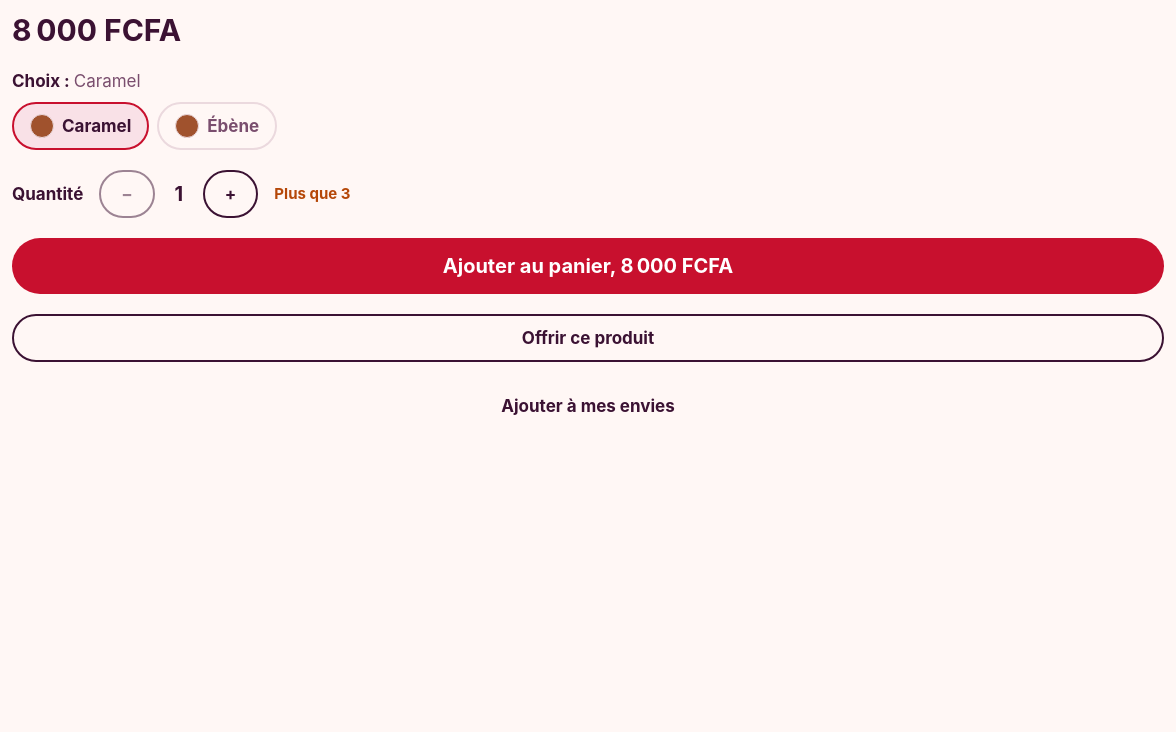
Test: ProductBuy › adds the chosen shade and quantity to the cart
Click the button named "Un de plus": (231, 194) [203, 170, 258, 218]
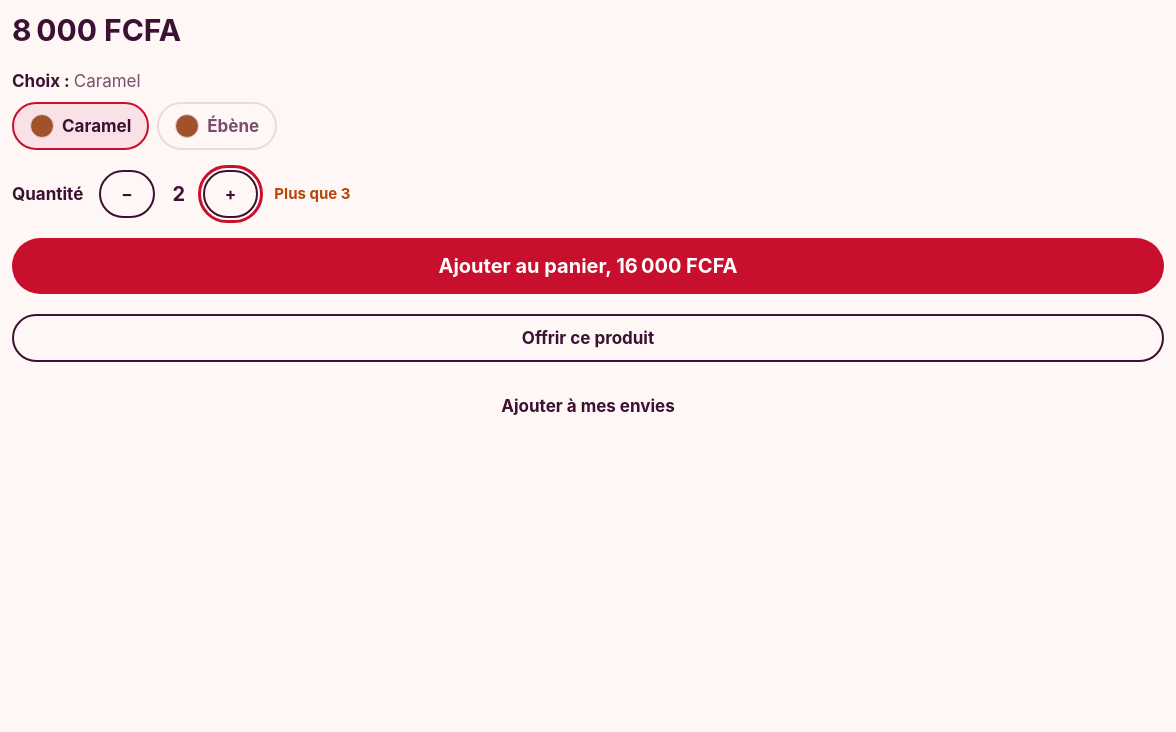
Expected: the text "Plus que 3" is shown, [274, 183, 350, 205]
Expected: the button "Ajouter au panier, 16 000 FCFA" is shown
Click the button "Ajouter au panier, 16 000 FCFA": (588, 266) [12, 238, 1164, 294]
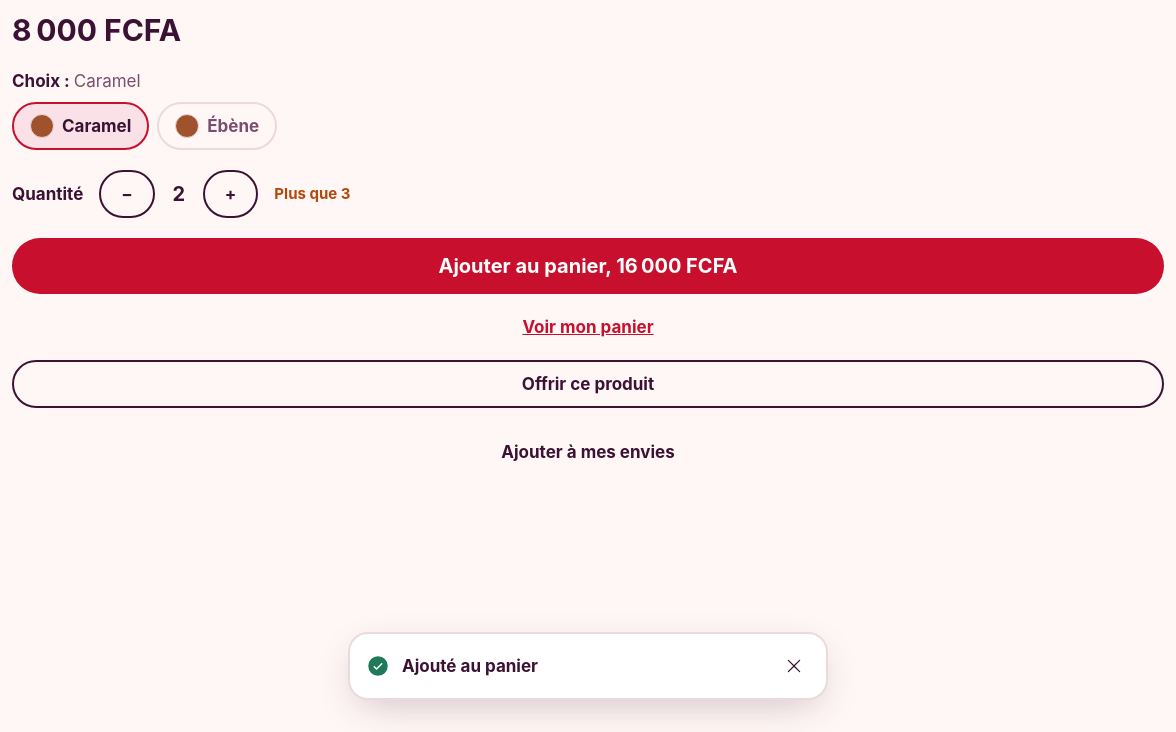
Expected: the link "Voir mon panier" is shown, [522, 314, 654, 340]
